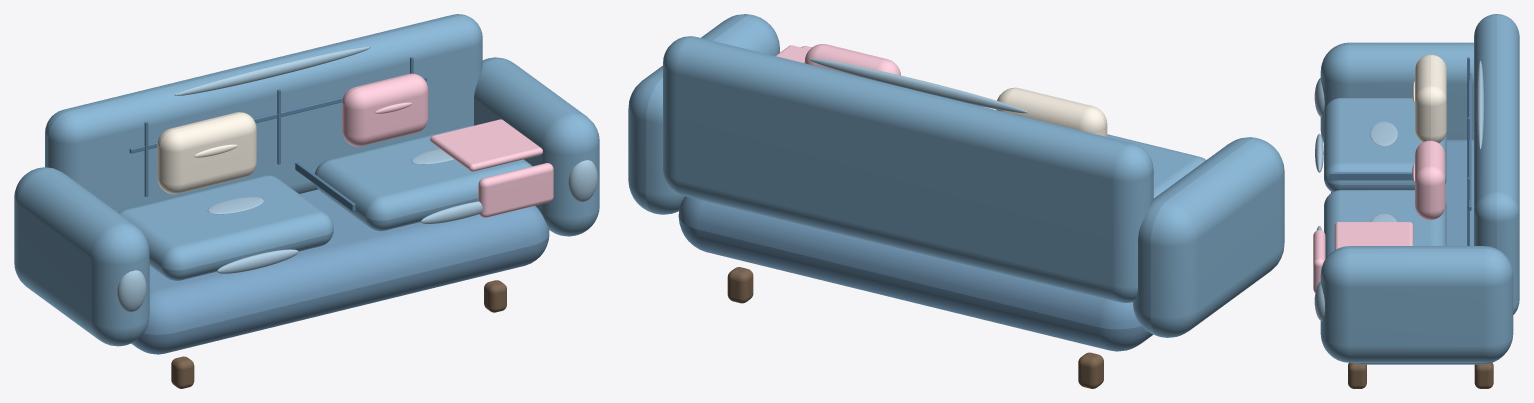
File: 目标图高级海蓝布艺沙发.fbx
The picture shows the model from 3 angles, left to right: view 1: azimuth 30°, elevation 25°; view 2: azimuth 150°, elevation 25°; view 3: azimuth 270°, elevation 25°; orthographic projection. The views are drawn at different scales.
Parts seen in each view (by area): view 1: 高级海蓝布艺沙发_v345_整片厚靠背, 高级海蓝布艺沙发_v345_一体圆角底座, 高级海蓝布艺沙发_v345_左厚圆扶手, 高级海蓝布艺沙发_v345_独立厚坐垫, 高级海蓝布艺沙发_v345_右厚圆扶手, 高级海蓝布艺沙发_v345_独立厚坐垫.001, 高级海蓝布艺沙发_v345_奶油软抱枕, 高级海蓝布艺沙发_v345_柔粉小抱枕, 高级海蓝布艺沙发_v345_柔粉搭毯座面, 高级海蓝布艺沙发_v345_柔粉搭毯前垂边, 高级海蓝布艺沙发_v345_靠背顶部连续圆卷, 高级海蓝布艺沙发_v345_左扶手前鼓包 (+8 smaller); view 2: 高级海蓝布艺沙发_v345_整片厚靠背, 高级海蓝布艺沙发_v345_一体圆角底座, 高级海蓝布艺沙发_v345_左厚圆扶手, 高级海蓝布艺沙发_v345_右厚圆扶手, 高级海蓝布艺沙发_v345_奶油软抱枕, 高级海蓝布艺沙发_v345_靠背顶部连续圆卷, 高级海蓝布艺沙发_v345_独立厚坐垫, 高级海蓝布艺沙发_v345_柔粉小抱枕, 高级海蓝布艺沙发_v345_内收深木短脚.003, 高级海蓝布艺沙发_v345_内收深木短脚.001; view 3: 高级海蓝布艺沙发_v345_右厚圆扶手, 高级海蓝布艺沙发_v345_整片厚靠背, 高级海蓝布艺沙发_v345_左厚圆扶手, 高级海蓝布艺沙发_v345_独立厚坐垫, 高级海蓝布艺沙发_v345_独立厚坐垫.001, 高级海蓝布艺沙发_v345_一体圆角底座, 高级海蓝布艺沙发_v345_奶油软抱枕, 高级海蓝布艺沙发_v345_柔粉小抱枕, 高级海蓝布艺沙发_v345_柔粉搭毯座面, 高级海蓝布艺沙发_v345_两座之间深蓝缝线, 高级海蓝布艺沙发_v345_柔粉搭毯前垂边, 高级海蓝布艺沙发_v345_靠背顶部连续圆卷 (+8 smaller).
Boxes of the visible parts, left/top/right/bottom form: 高级海蓝布艺沙发_v345_整片厚靠背: left=45, top=14, right=482, bottom=212; 高级海蓝布艺沙发_v345_一体圆角底座: left=131, top=189, right=549, bottom=354; 高级海蓝布艺沙发_v345_左厚圆扶手: left=14, top=167, right=149, bottom=346; 高级海蓝布艺沙发_v345_独立厚坐垫: left=118, top=175, right=333, bottom=280; 高级海蓝布艺沙发_v345_右厚圆扶手: left=474, top=57, right=599, bottom=236; 高级海蓝布艺沙发_v345_独立厚坐垫.001: left=314, top=125, right=531, bottom=231; 高级海蓝布艺沙发_v345_奶油软抱枕: left=157, top=112, right=256, bottom=194; 高级海蓝布艺沙发_v345_柔粉小抱枕: left=342, top=73, right=428, bottom=146; 高级海蓝布艺沙发_v345_柔粉搭毯座面: left=430, top=119, right=542, bottom=171; 高级海蓝布艺沙发_v345_柔粉搭毯前垂边: left=478, top=163, right=553, bottom=217; 高级海蓝布艺沙发_v345_靠背顶部连续圆卷: left=174, top=47, right=370, bottom=95; 高级海蓝布艺沙发_v345_左扶手前鼓包: left=117, top=270, right=146, bottom=311; 高级海蓝布艺沙发_v345_整片厚靠背: left=663, top=36, right=1153, bottom=302; 高级海蓝布艺沙发_v345_一体圆角底座: left=678, top=196, right=1152, bottom=351; 高级海蓝布艺沙发_v345_左厚圆扶手: left=1133, top=137, right=1284, bottom=337; 高级海蓝布艺沙发_v345_右厚圆扶手: left=628, top=14, right=779, bottom=214; 高级海蓝布艺沙发_v345_奶油软抱枕: left=996, top=87, right=1107, bottom=136; 高级海蓝布艺沙发_v345_靠背顶部连续圆卷: left=808, top=58, right=1027, bottom=113; 高级海蓝布艺沙发_v345_独立厚坐垫: left=1107, top=134, right=1205, bottom=198; 高级海蓝布艺沙发_v345_柔粉小抱枕: left=804, top=44, right=900, bottom=75; 高级海蓝布艺沙发_v345_内收深木短脚.003: left=727, top=267, right=753, bottom=303; 高级海蓝布艺沙发_v345_内收深木短脚.001: left=1078, top=352, right=1103, bottom=388; 高级海蓝布艺沙发_v345_右厚圆扶手: left=1320, top=246, right=1513, bottom=362; 高级海蓝布艺沙发_v345_整片厚靠背: left=1474, top=14, right=1519, bottom=314; 高级海蓝布艺沙发_v345_左厚圆扶手: left=1320, top=42, right=1473, bottom=142; 高级海蓝布艺沙发_v345_独立厚坐垫: left=1324, top=98, right=1446, bottom=192; 高级海蓝布艺沙发_v345_独立厚坐垫.001: left=1324, top=190, right=1446, bottom=258; 高级海蓝布艺沙发_v345_一体圆角底座: left=1331, top=139, right=1504, bottom=364; 高级海蓝布艺沙发_v345_奶油软抱枕: left=1415, top=54, right=1446, bottom=142; 高级海蓝布艺沙发_v345_柔粉小抱枕: left=1415, top=140, right=1445, bottom=220; 高级海蓝布艺沙发_v345_柔粉搭毯座面: left=1334, top=222, right=1413, bottom=249; 高级海蓝布艺沙发_v345_两座之间深蓝缝线: left=1329, top=172, right=1412, bottom=180; 高级海蓝布艺沙发_v345_柔粉搭毯前垂边: left=1313, top=230, right=1325, bottom=292; 高级海蓝布艺沙发_v345_靠背顶部连续圆卷: left=1476, top=60, right=1483, bottom=149.
Size of the model in its own units: 213 by 94.1 by 81.4.
